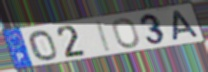2: (57, 24, 88, 59)
3: (139, 12, 171, 46)
A: (172, 9, 201, 42)
I: (95, 19, 113, 54)
O: (27, 29, 60, 61), (111, 17, 142, 50)
